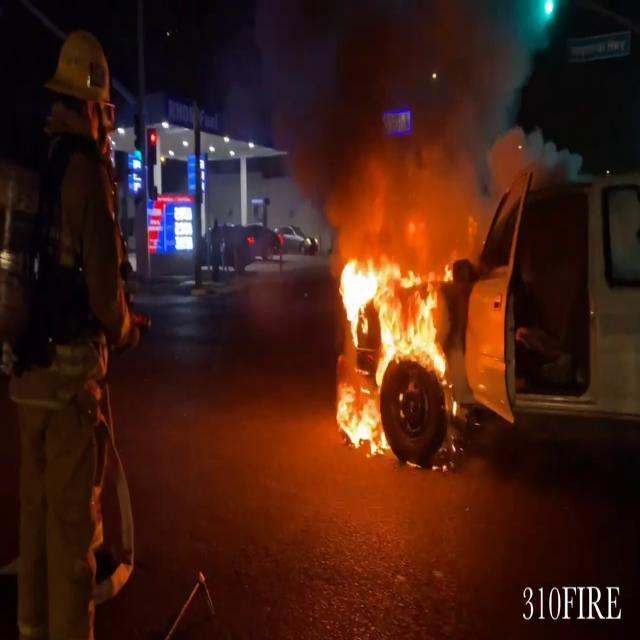Fire: (328, 238, 454, 456)
Smoke: (253, 0, 571, 233)
